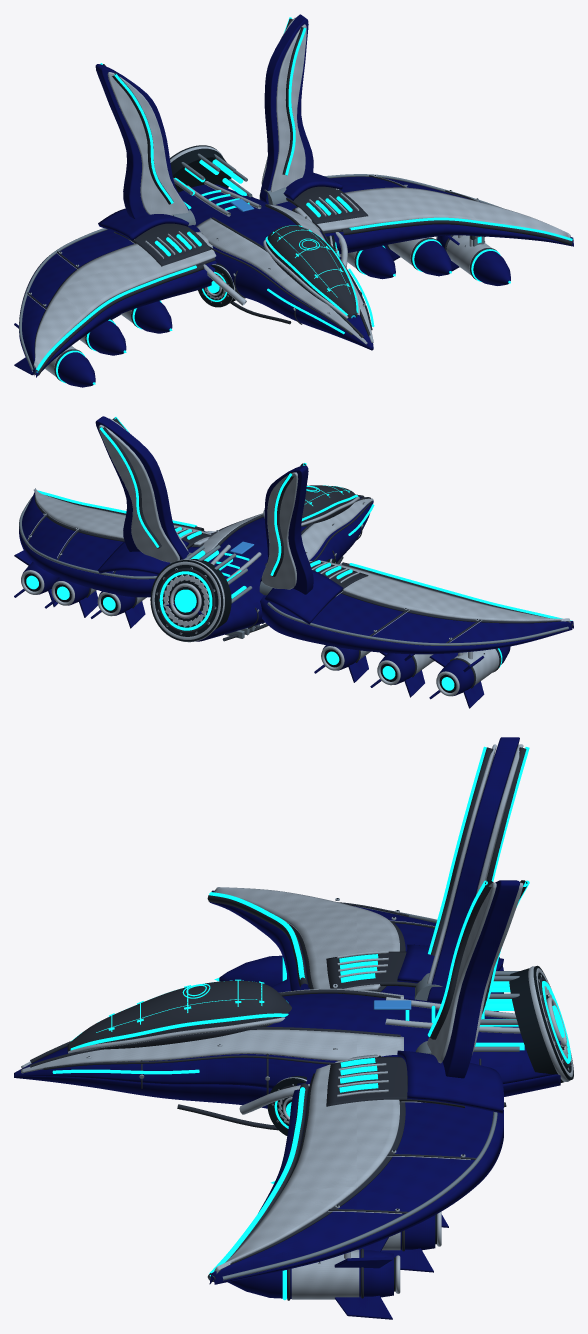
File: drone.glb
The picture shows the model from 3 angles, top to bottom: view 1: azimuth 30°, elevation 25°; view 2: azimuth 150°, elevation 25°; view 3: azimuth 270°, elevation 25°; orthographic projection. The views are drawn at different scales.
Visible parts, largest first — view 1: Hull_and_wings | Brushed silver titanium, Hull_and_wings | Deep cobalt enamel, Hull_and_wings | Recessed graphite mechanisms, Hull_and_wings | Cyan energy strips, Hull_and_wings | Machined dark titanium edges, Rear_cyan_reactor | Intake black ceramic, Starboard_missile_3 | Deep cobalt enamel, Port_missile_3 | Deep cobalt enamel, Starboard_missile_2 | Deep cobalt enamel, Starboard_missile_1 | Deep cobalt enamel, Port_missile_2 | Deep cobalt enamel, Port_missile_1 | Deep cobalt enamel (+4 smaller); view 2: Hull_and_wings | Deep cobalt enamel, Hull_and_wings | Brushed silver titanium, Hull_and_wings | Recessed graphite mechanisms, Hull_and_wings | Cyan energy strips, Rear_cyan_reactor | Intake black ceramic, Hull_and_wings | Machined dark titanium edges, Port_missile_3 | Deep cobalt enamel, Rear_cyan_reactor | Cyan energy strips, Rear_cyan_reactor | Polished actuator metal, Rear_cyan_reactor | Brushed silver titanium, Port_missile_2 | Deep cobalt enamel, Port_missile_3 | Brushed silver titanium (+6 smaller); view 3: Hull_and_wings | Deep cobalt enamel, Hull_and_wings | Brushed silver titanium, Hull_and_wings | Recessed graphite mechanisms, Hull_and_wings | Cyan energy strips, Starboard_missile_3 | Deep cobalt enamel, Rear_cyan_reactor | Intake black ceramic, Starboard_missile_3 | Brushed silver titanium, Hull_and_wings | Machined dark titanium edges, Rear_cyan_reactor | Cyan energy strips, Starboard_missile_2 | Deep cobalt enamel, Port_missile_3 | Deep cobalt enamel, Rear_cyan_reactor | Brushed silver titanium (+1 smaller).
Part boxes in pixels (x1=…): Hull_and_wings | Brushed silver titanium: x1=28, y1=17, x2=570, y2=368; Hull_and_wings | Deep cobalt enamel: x1=19, y1=14, x2=573, y2=377; Hull_and_wings | Recessed graphite mechanisms: x1=27, y1=18, x2=572, y2=375; Hull_and_wings | Cyan energy strips: x1=36, y1=17, x2=572, y2=372; Hull_and_wings | Machined dark titanium edges: x1=19, y1=174, x2=501, y2=371; Rear_cyan_reactor | Intake black ceramic: x1=170, y1=145, x2=231, y2=192; Starboard_missile_3 | Deep cobalt enamel: x1=437, y1=235, x2=510, y2=285; Port_missile_3 | Deep cobalt enamel: x1=14, y1=323, x2=95, y2=387; Starboard_missile_2 | Deep cobalt enamel: x1=384, y1=241, x2=451, y2=276; Starboard_missile_1 | Deep cobalt enamel: x1=339, y1=246, x2=395, y2=279; Port_missile_2 | Deep cobalt enamel: x1=88, y1=320, x2=126, y2=355; Port_missile_1 | Deep cobalt enamel: x1=111, y1=301, x2=172, y2=333; Hull_and_wings | Deep cobalt enamel: x1=19, y1=416, x2=573, y2=654; Hull_and_wings | Brushed silver titanium: x1=28, y1=418, x2=570, y2=639; Hull_and_wings | Recessed graphite mechanisms: x1=27, y1=417, x2=572, y2=643; Hull_and_wings | Cyan energy strips: x1=37, y1=417, x2=572, y2=620; Rear_cyan_reactor | Intake black ceramic: x1=150, y1=559, x2=231, y2=641; Hull_and_wings | Machined dark titanium edges: x1=19, y1=496, x2=568, y2=645; Port_missile_3 | Deep cobalt enamel: x1=429, y1=646, x2=510, y2=708; Rear_cyan_reactor | Cyan energy strips: x1=159, y1=550, x2=246, y2=630; Rear_cyan_reactor | Polished actuator metal: x1=163, y1=574, x2=209, y2=627; Rear_cyan_reactor | Brushed silver titanium: x1=152, y1=559, x2=224, y2=642; Port_missile_2 | Deep cobalt enamel: x1=370, y1=652, x2=424, y2=697; Port_missile_3 | Brushed silver titanium: x1=454, y1=649, x2=499, y2=685; Hull_and_wings | Deep cobalt enamel: x1=14, y1=737, x2=560, y2=1284; Hull_and_wings | Brushed silver titanium: x1=21, y1=744, x2=523, y2=1273; Hull_and_wings | Recessed graphite mechanisms: x1=30, y1=747, x2=527, y2=1281; Hull_and_wings | Cyan energy strips: x1=52, y1=746, x2=529, y2=1276; Starboard_missile_3 | Deep cobalt enamel: x1=228, y1=1237, x2=393, y2=1319; Rear_cyan_reactor | Intake black ceramic: x1=509, y1=965, x2=573, y2=1082; Starboard_missile_3 | Brushed silver titanium: x1=291, y1=1249, x2=359, y2=1299; Hull_and_wings | Machined dark titanium edges: x1=222, y1=906, x2=497, y2=1280; Rear_cyan_reactor | Cyan energy strips: x1=475, y1=981, x2=571, y2=1063; Starboard_missile_2 | Deep cobalt enamel: x1=381, y1=1215, x2=435, y2=1272; Port_missile_3 | Deep cobalt enamel: x1=219, y1=955, x2=287, y2=986; Rear_cyan_reactor | Brushed silver titanium: x1=528, y1=966, x2=573, y2=1081.
Bounding box in the file's own units: 2.29 × 0.9743 × 1.42.
10 materials, 2 textured.
